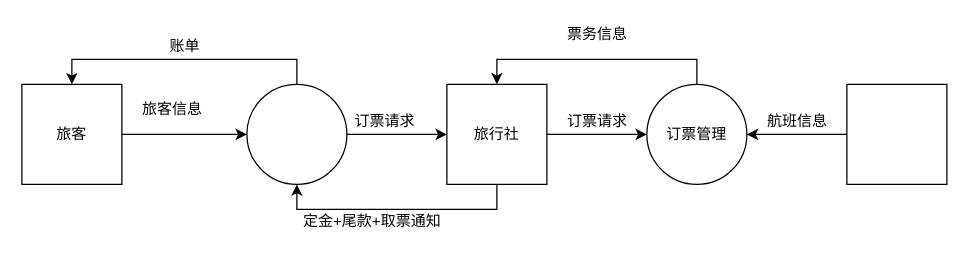
This 969x255 diagram has some shape labels left out. Here are the shapes that lost their labels. From the top down, the box of each, then its label:
(246, 83, 347, 184): 旅行社代理
(846, 83, 947, 184): 航空公司
